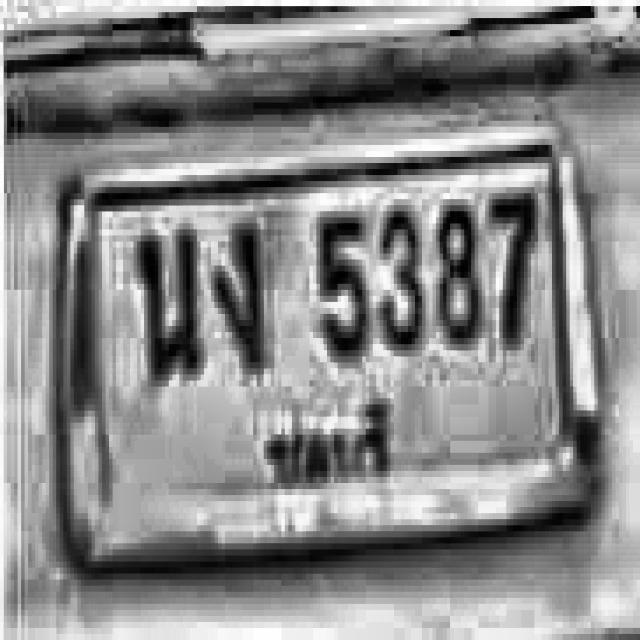license-plate: (35, 120, 613, 579)
